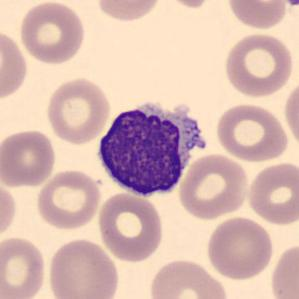Lymphocyte: (91, 94, 214, 202)
Platelets: (285, 0, 299, 7)
RBC: (221, 30, 296, 99), (96, 190, 166, 263), (177, 152, 251, 221), (213, 100, 290, 164), (44, 75, 113, 145), (204, 215, 276, 281), (46, 236, 121, 299), (18, 0, 87, 66), (34, 167, 102, 231), (146, 256, 230, 299), (245, 160, 298, 227), (0, 127, 58, 188), (0, 233, 48, 299), (0, 27, 30, 103), (225, 0, 289, 30), (268, 240, 298, 299), (94, 0, 164, 23), (282, 77, 299, 151), (0, 177, 18, 242), (161, 0, 219, 9)
